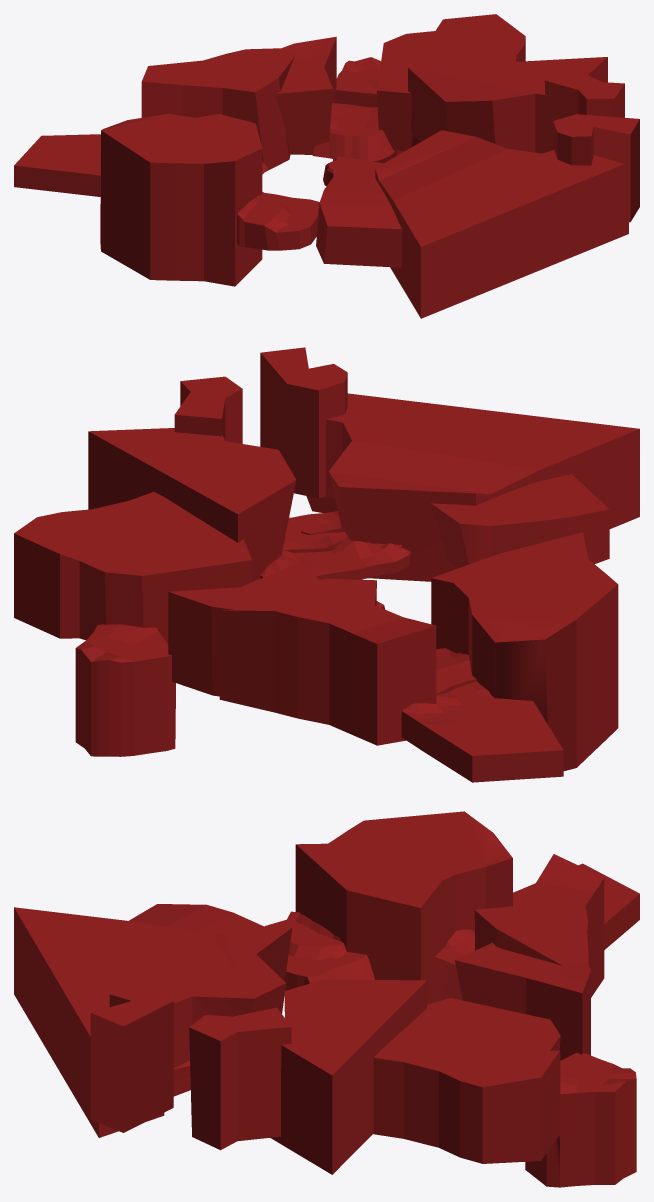
Rendered from Zone4Final 1.FBX.
3 renders of one model, top to bottom at view 1: azimuth 30°, elevation 25°; view 2: azimuth 150°, elevation 25°; view 3: azimuth 270°, elevation 25°, orthographic. The views are drawn at different scales.
Visible parts, largest first — view 1: New_Game_Object__1__1, New_Game_Object__2_, New_Game_Object_5, New_Game_Object_3, New_Game_Object_2, New_Game_Object_16, New_Game_Object_14, New_Game_Object__4__1, New_Game_Object_15, New_Game_Object_1, New_Game_Object_13, New_Game_Object (+1 smaller); view 2: New_Game_Object__1__1, New_Game_Object__2_, New_Game_Object_3, New_Game_Object_2, New_Game_Object_5, New_Game_Object__1_, New_Game_Object_15, New_Game_Object_16, New_Game_Object__4__1, New_Game_Object_14, New_Game_Object_4, New_Game_Object_13 (+2 smaller); view 3: New_Game_Object__1__1, New_Game_Object__2_, New_Game_Object_2, New_Game_Object_5, New_Game_Object_13, New_Game_Object__4__1, New_Game_Object__1_, New_Game_Object_3, New_Game_Object_14, New_Game_Object_16, New_Game_Object_1, New_Game_Object_15.
Boxes of the visible parts, bbox=[...] form: New_Game_Object__1__1: bbox=[375, 130, 628, 318]; New_Game_Object__2_: bbox=[100, 113, 262, 286]; New_Game_Object_5: bbox=[408, 57, 607, 153]; New_Game_Object_3: bbox=[141, 48, 294, 171]; New_Game_Object_2: bbox=[377, 14, 525, 151]; New_Game_Object_16: bbox=[316, 156, 401, 267]; New_Game_Object_14: bbox=[275, 36, 336, 154]; New_Game_Object__4__1: bbox=[553, 114, 639, 222]; New_Game_Object_15: bbox=[14, 134, 267, 196]; New_Game_Object_1: bbox=[237, 192, 319, 250]; New_Game_Object_13: bbox=[544, 68, 624, 151]; New_Game_Object: bbox=[312, 103, 394, 161]; New_Game_Object__1__1: bbox=[306, 393, 639, 581]; New_Game_Object__2_: bbox=[431, 532, 618, 771]; New_Game_Object_3: bbox=[219, 578, 436, 745]; New_Game_Object_2: bbox=[14, 491, 252, 643]; New_Game_Object_5: bbox=[88, 428, 296, 582]; New_Game_Object__1_: bbox=[75, 624, 175, 756]; New_Game_Object_15: bbox=[401, 648, 563, 782]; New_Game_Object_16: bbox=[430, 474, 609, 568]; New_Game_Object__4__1: bbox=[260, 347, 347, 498]; New_Game_Object_14: bbox=[168, 561, 319, 696]; New_Game_Object_4: bbox=[260, 511, 410, 579]; New_Game_Object_13: bbox=[174, 376, 242, 443]; New_Game_Object__1__1: bbox=[14, 907, 285, 1137]; New_Game_Object__2_: bbox=[295, 811, 512, 1004]; New_Game_Object_2: bbox=[373, 998, 560, 1163]; New_Game_Object_5: bbox=[270, 979, 426, 1174]; New_Game_Object_13: bbox=[189, 1007, 291, 1150]; New_Game_Object__4__1: bbox=[90, 981, 173, 1132]; New_Game_Object__1_: bbox=[525, 1052, 636, 1187]; New_Game_Object_3: bbox=[474, 854, 604, 997]; New_Game_Object_14: bbox=[455, 942, 590, 1060]; New_Game_Object_16: bbox=[129, 904, 292, 980]; New_Game_Object_1: bbox=[265, 911, 374, 990]; New_Game_Object_15: bbox=[427, 863, 639, 1000].
Bounding box in the file's own units: 52514 × 15981 × 47858.
